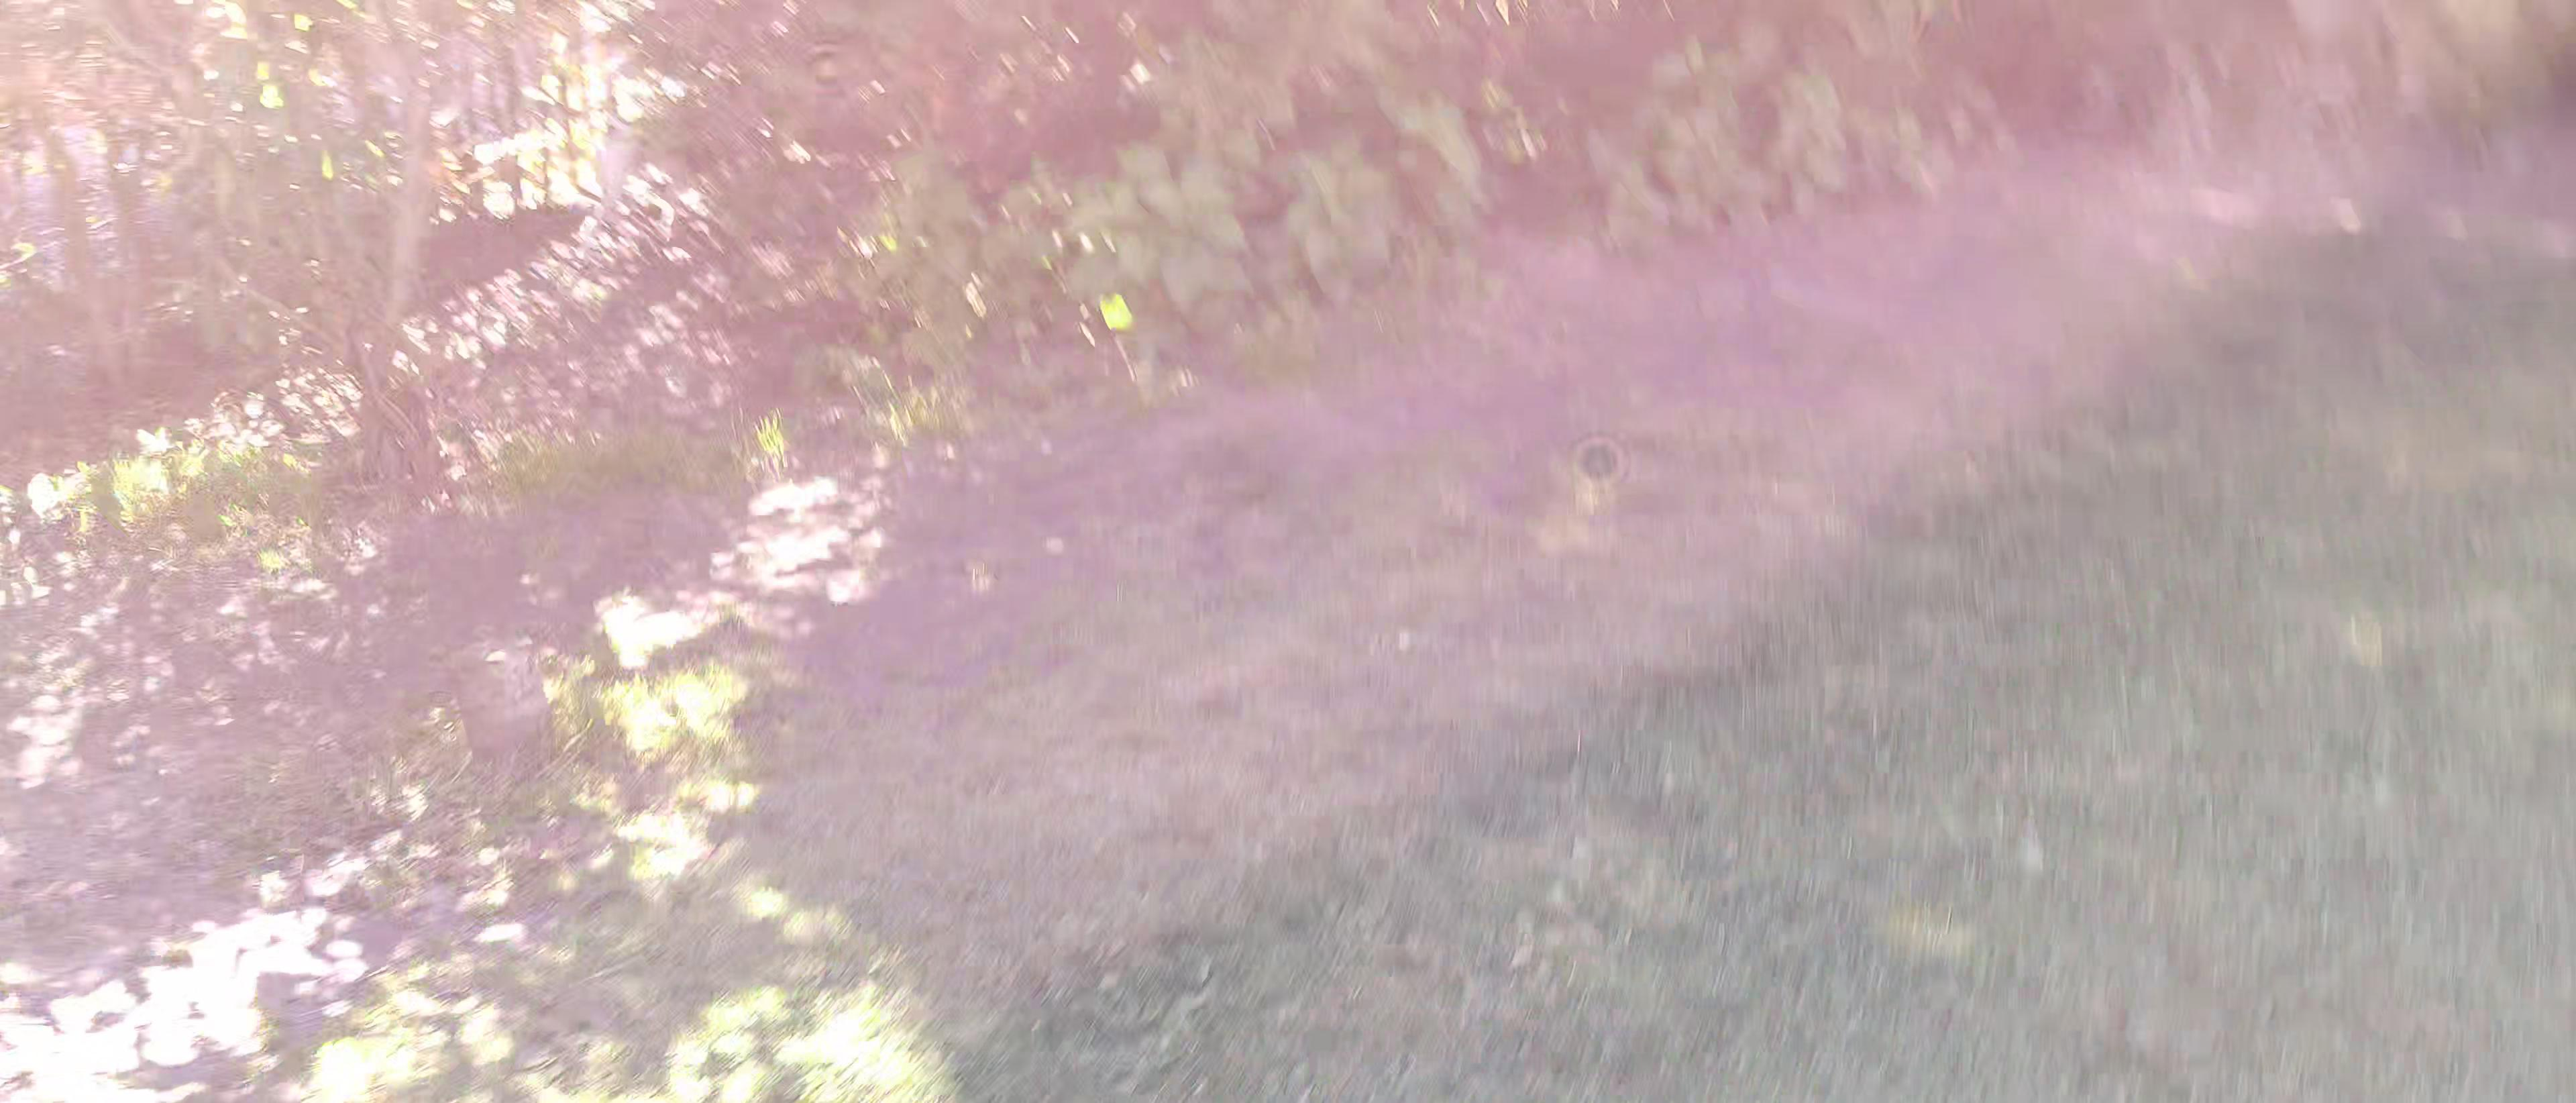Dog: (542, 43, 680, 260)
